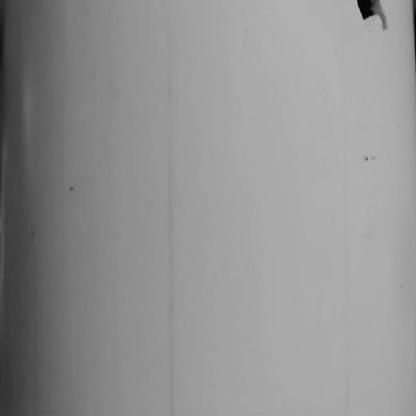kongdong: (348, 2, 394, 45)
